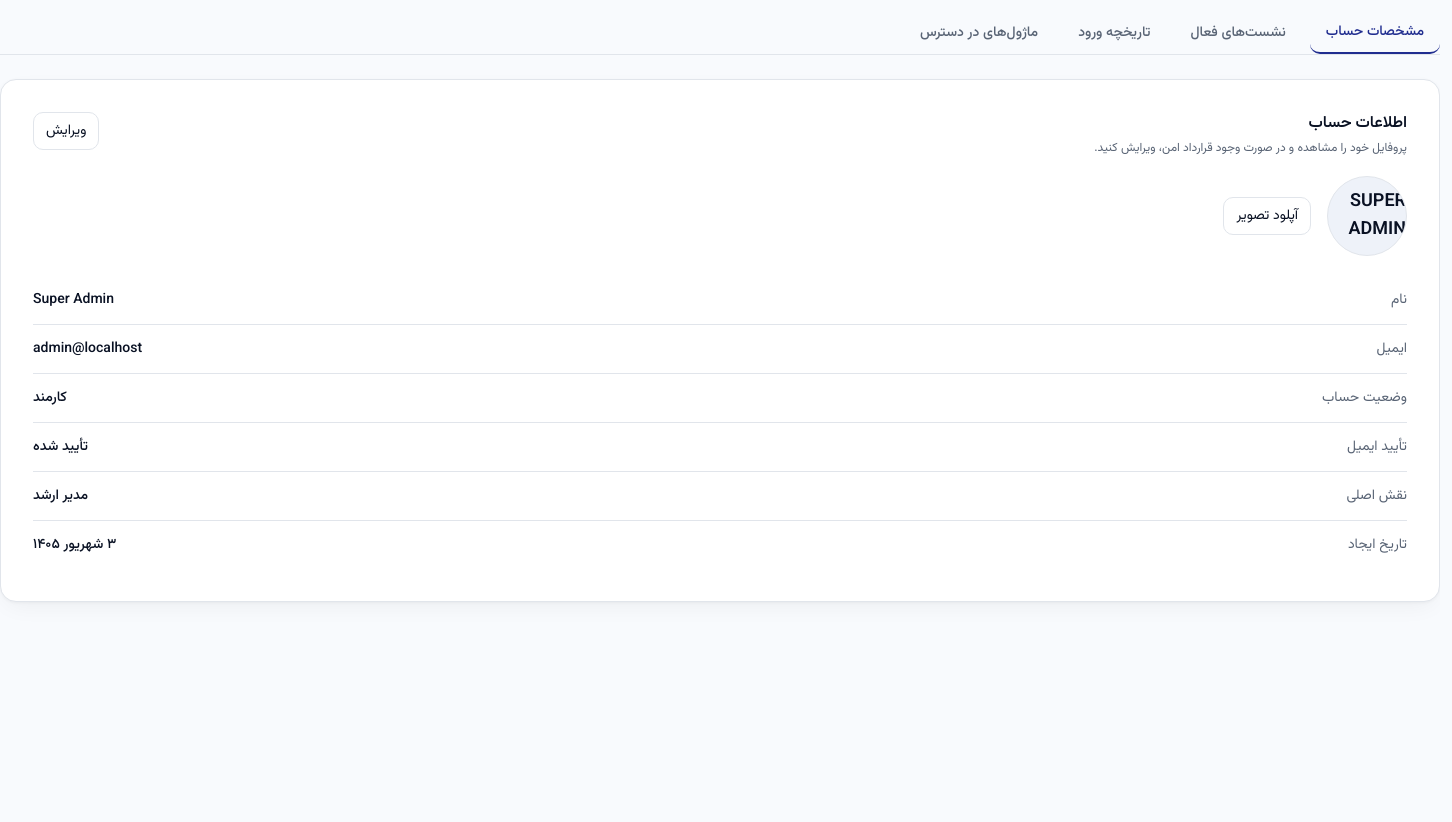
Test: CoreProfileView account tabs › activates the sessions panel on click and updates the URL
What coordinates should you click on to do the following:
click the tab "نشست‌های فعال"
I would click on:
 (1238, 33)
Its box is left=1174, top=12, right=1302, bottom=54.
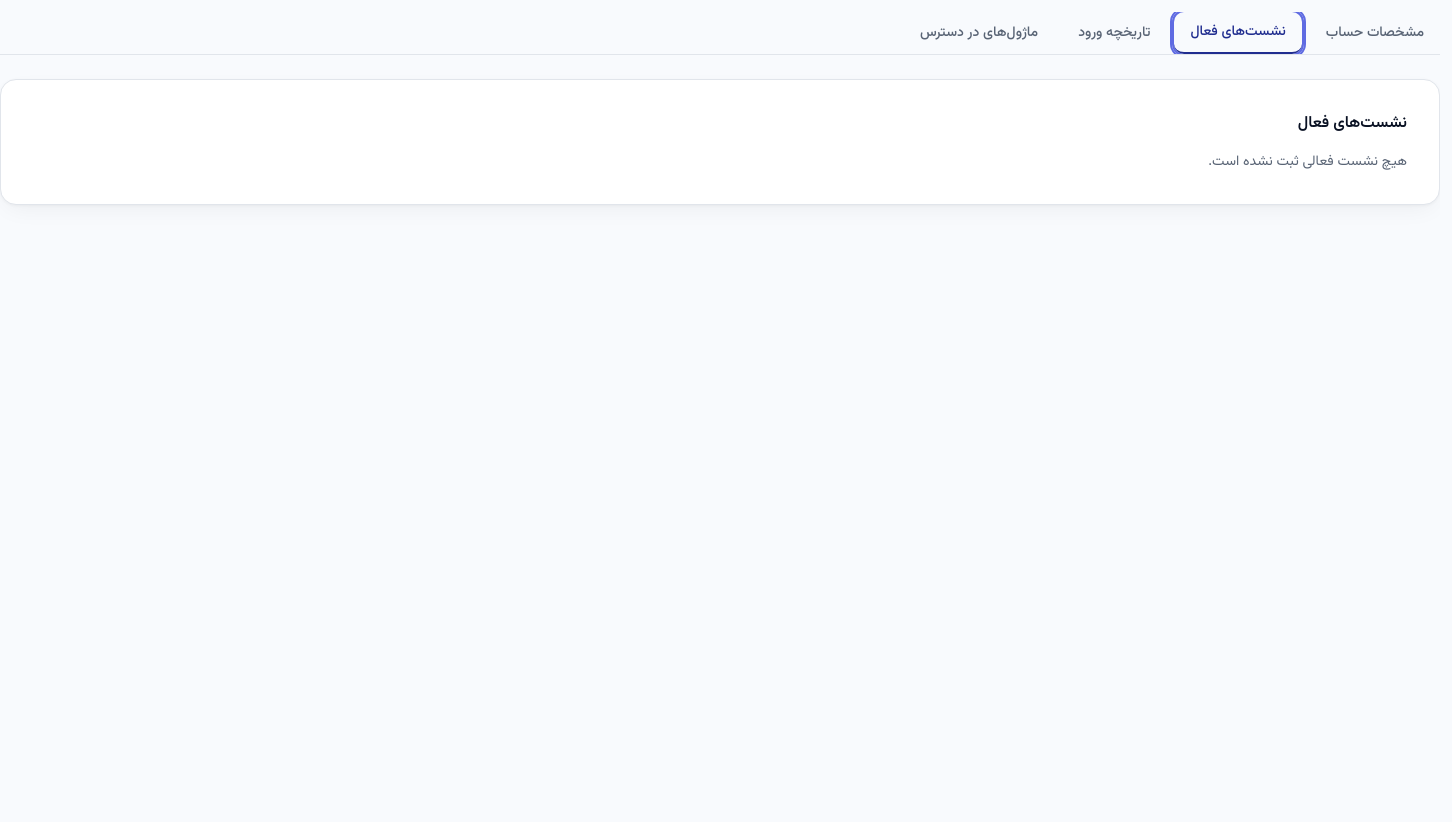
Expected: the text "admin@localhost" is gone
Expected: the text "هیچ نشست فعالی ثبت نشده است." is shown, left=1208, top=151, right=1407, bottom=173
